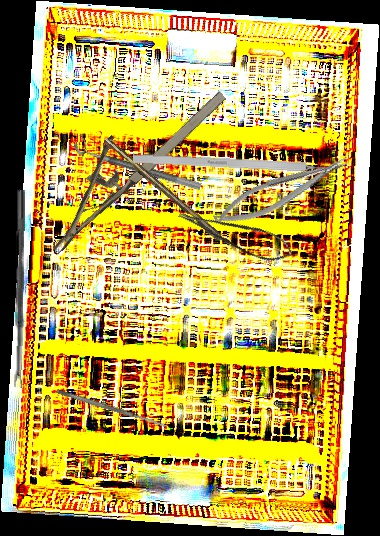Fixation Ring: (72, 133, 205, 192)
Hook Surgical: (102, 135, 244, 260), (132, 153, 346, 175)
Micro Scissor: (176, 192, 297, 272)
Needle Holder: (22, 62, 231, 255), (208, 149, 356, 234)
Spatula Surgical: (55, 388, 170, 430)
Surgical Spoon: (12, 189, 26, 388)
